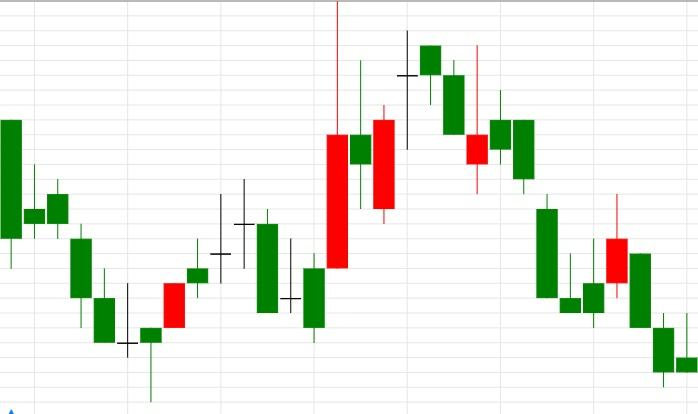hammer_rise: (0, 119, 162, 403)
inverse_hammer_rise: (489, 90, 582, 314), (605, 194, 698, 388)
